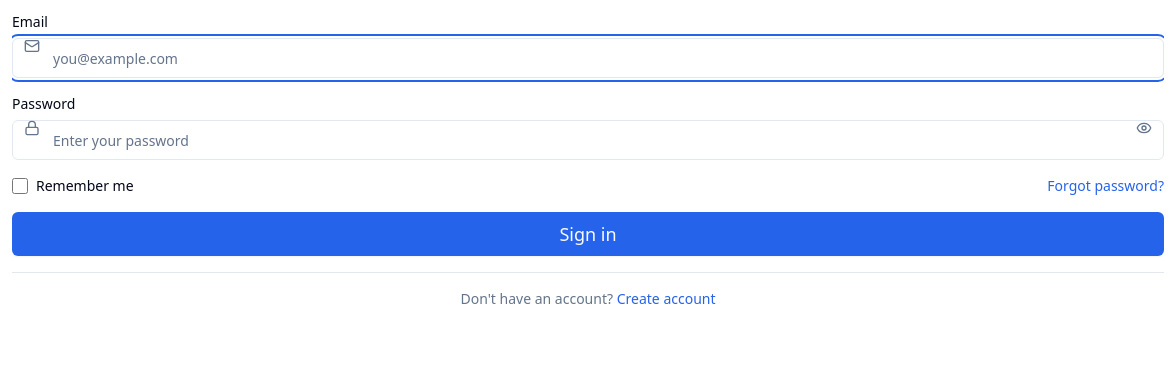
Test: LoginForm › Form Validation › should show error when email is invalid
This screenshot has width=1176, height=373.
Step 1. Type "invalid-email" into the field labelled "Email" → (588, 58), box [12,38,1164,78]
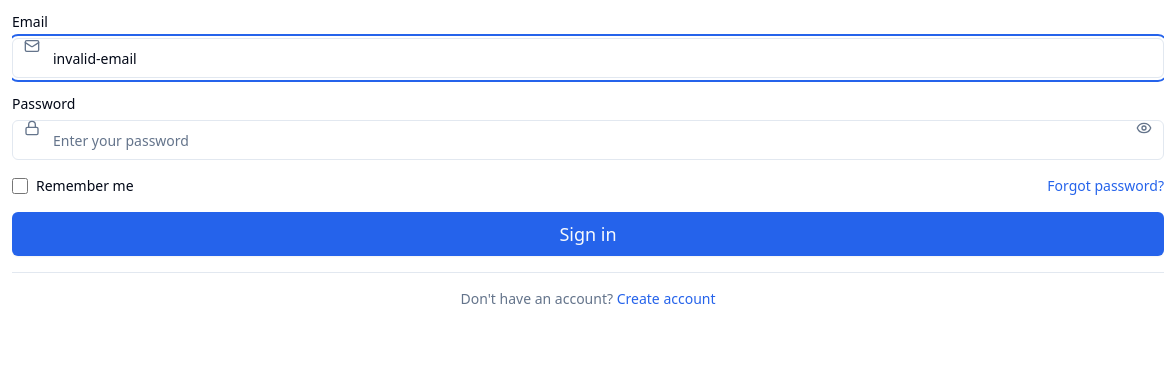
Step 2. Click the button "Sign in" → click(588, 234), box [12,212,1164,256]
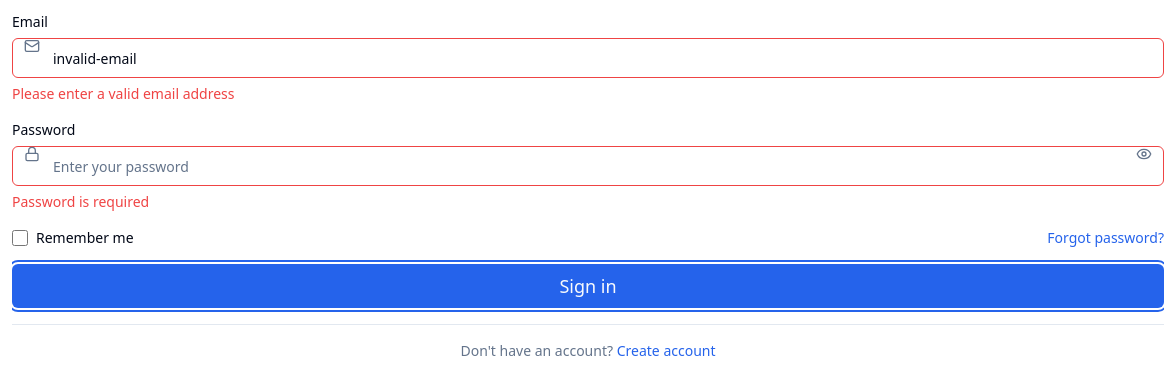
Expected: the text "Please enter a valid email address" is shown, [12,84,234,103]
